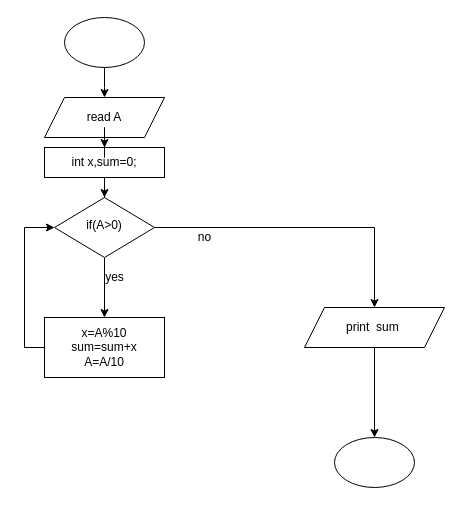
The diagram is 462 pixels wide and 505 high, and some of its shapes have lost their labels. The centre of each missing label's shape, as x and y in pixels:
"START" goes at (x=104, y=42).
"STOP" goes at (x=374, y=462).
